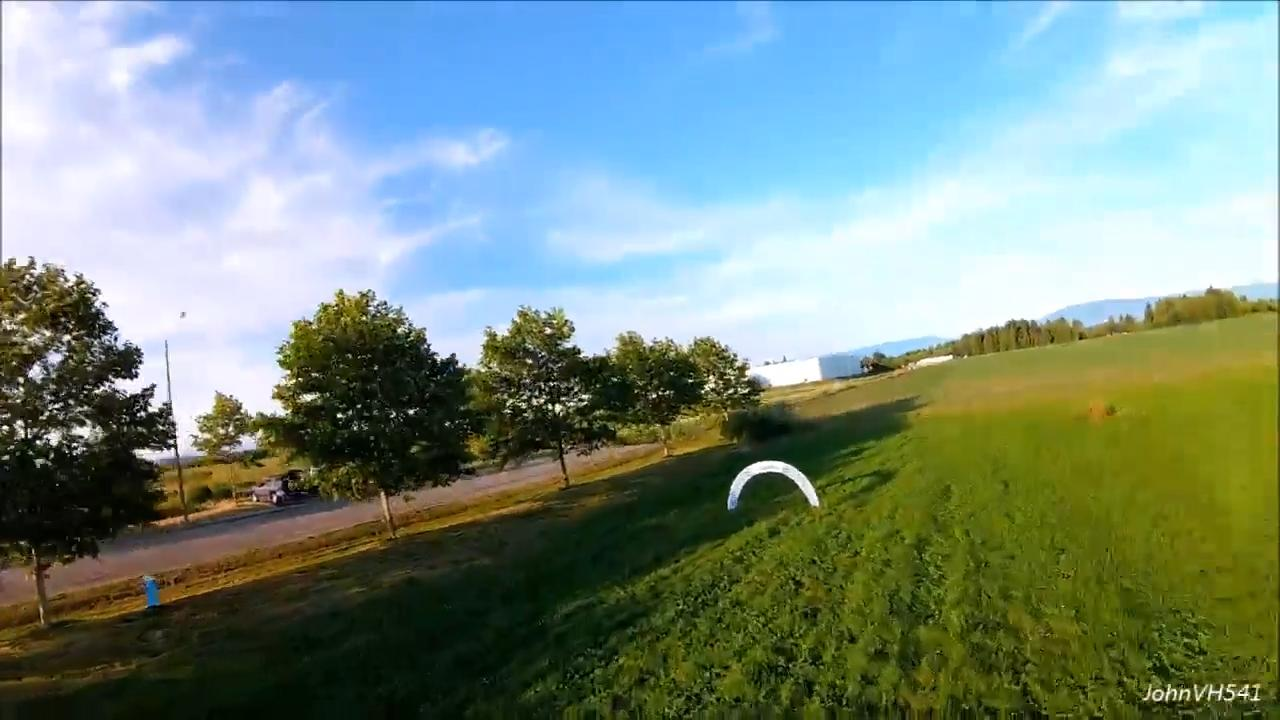gate: (724, 459, 823, 509)
